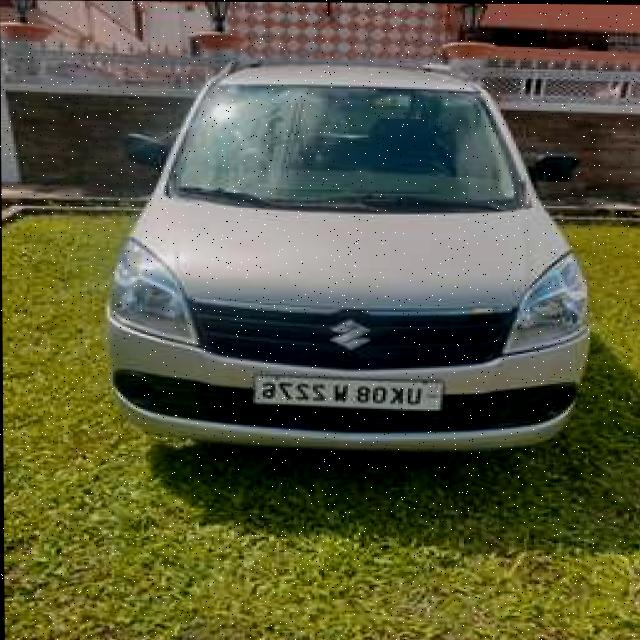plate: (254, 373, 444, 414)
